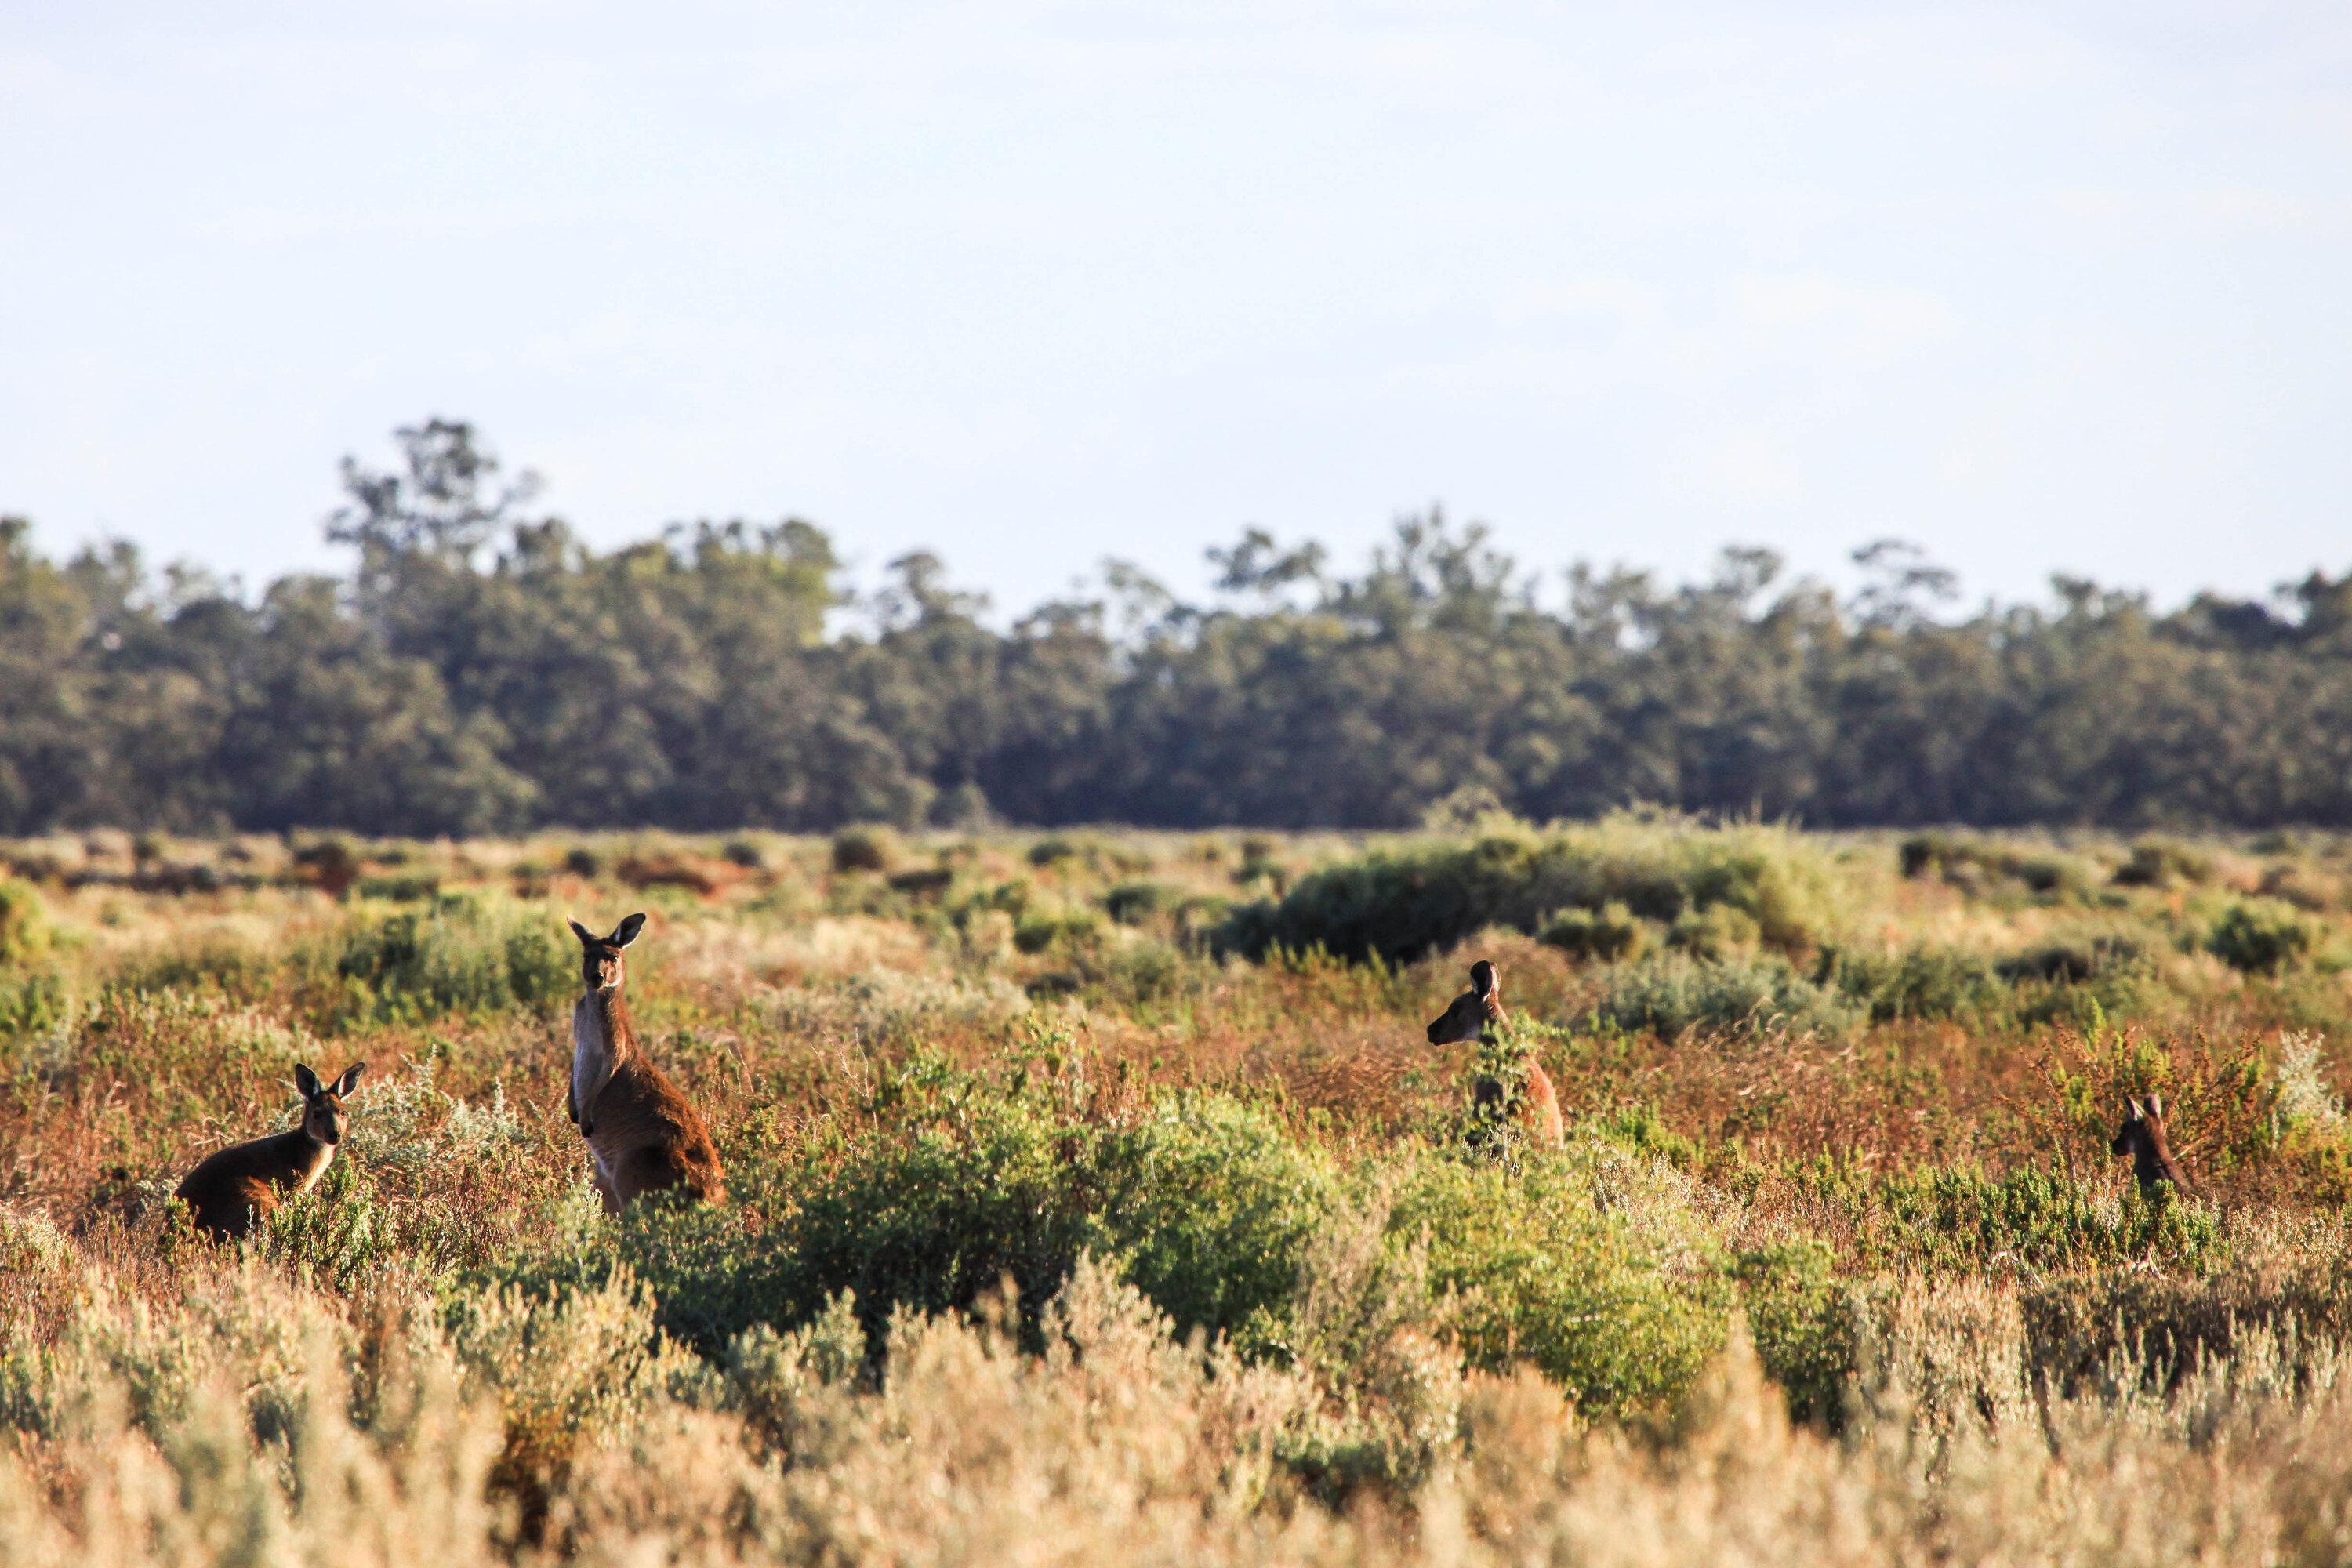Red kangaroo: (560, 905, 740, 1246), (163, 1055, 382, 1281), (1424, 957, 1578, 1188), (2116, 1083, 2195, 1232)
